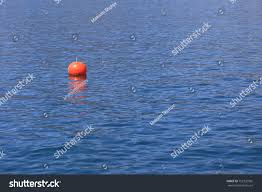buoy: (68, 62, 86, 76)
